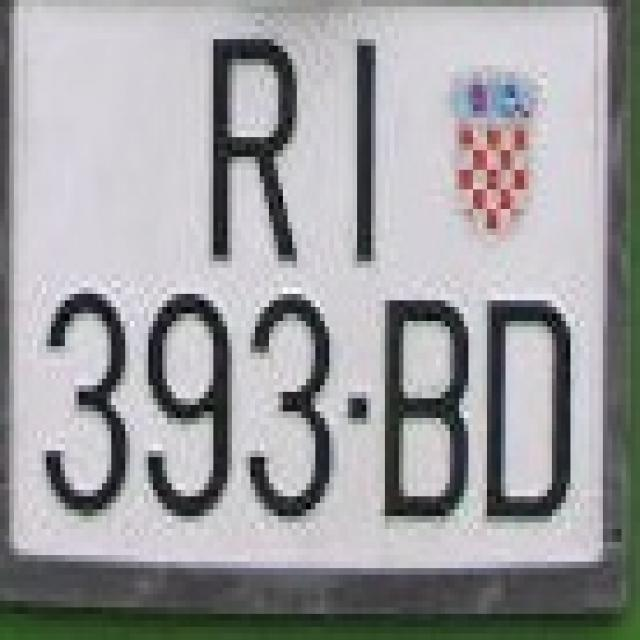3: (32, 281, 134, 522), (245, 294, 338, 529)
9: (144, 274, 241, 529)
B: (380, 294, 473, 529)
D: (478, 287, 575, 529)
